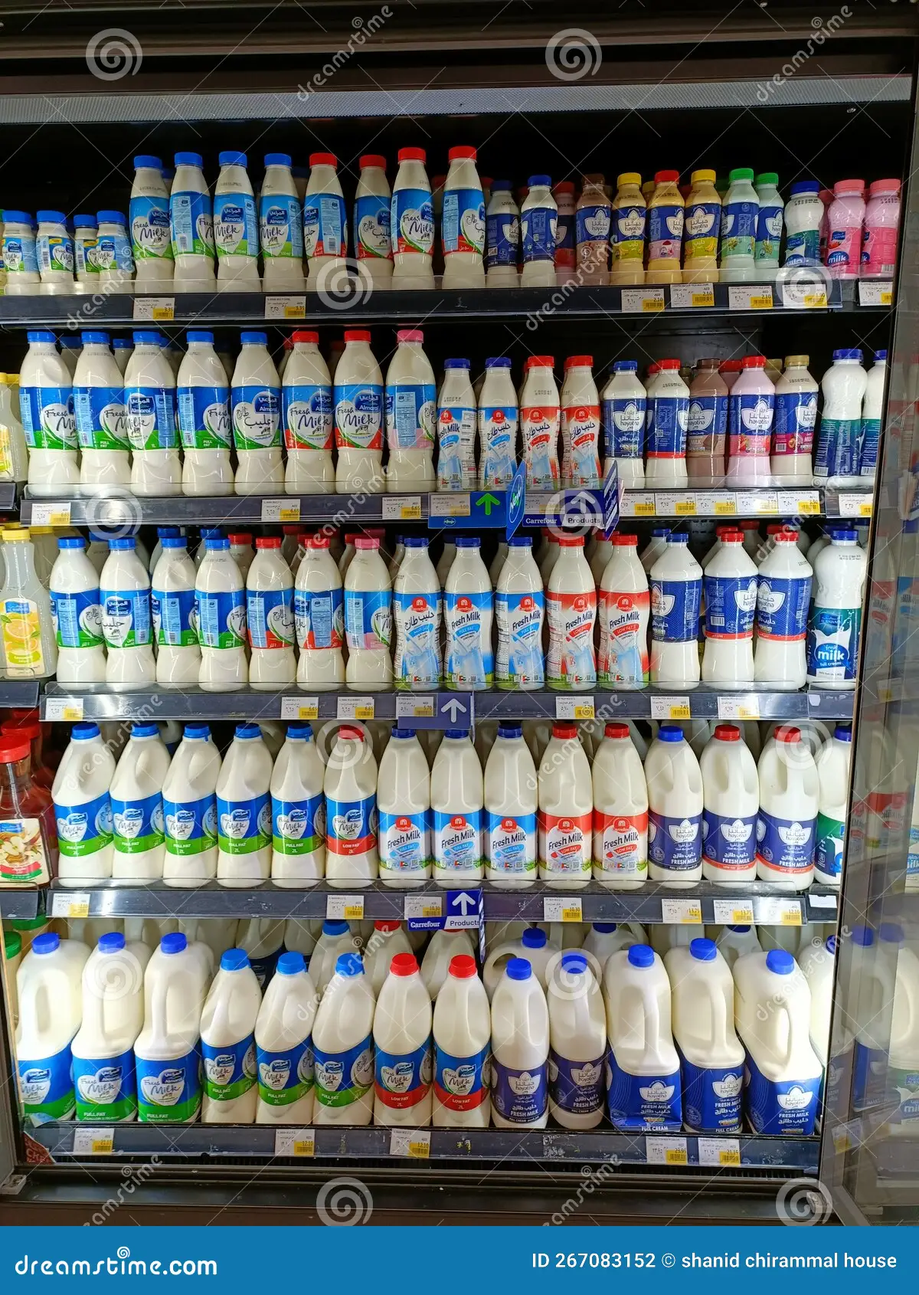milk: (228, 325, 284, 495), (388, 320, 437, 497), (287, 324, 337, 494), (439, 133, 492, 291), (648, 353, 691, 489)
